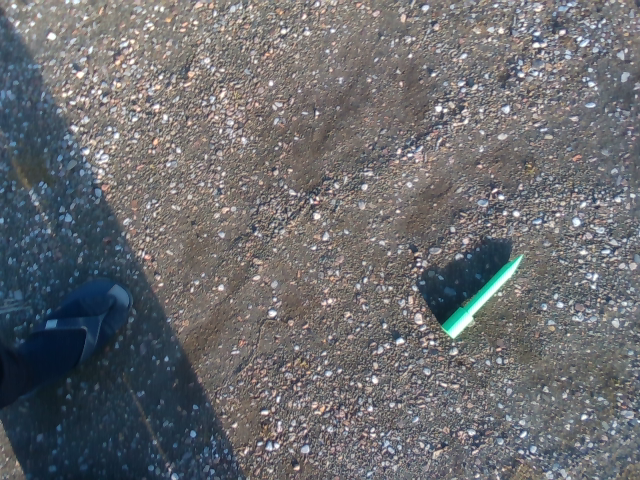Probe: (438, 244, 530, 345)
